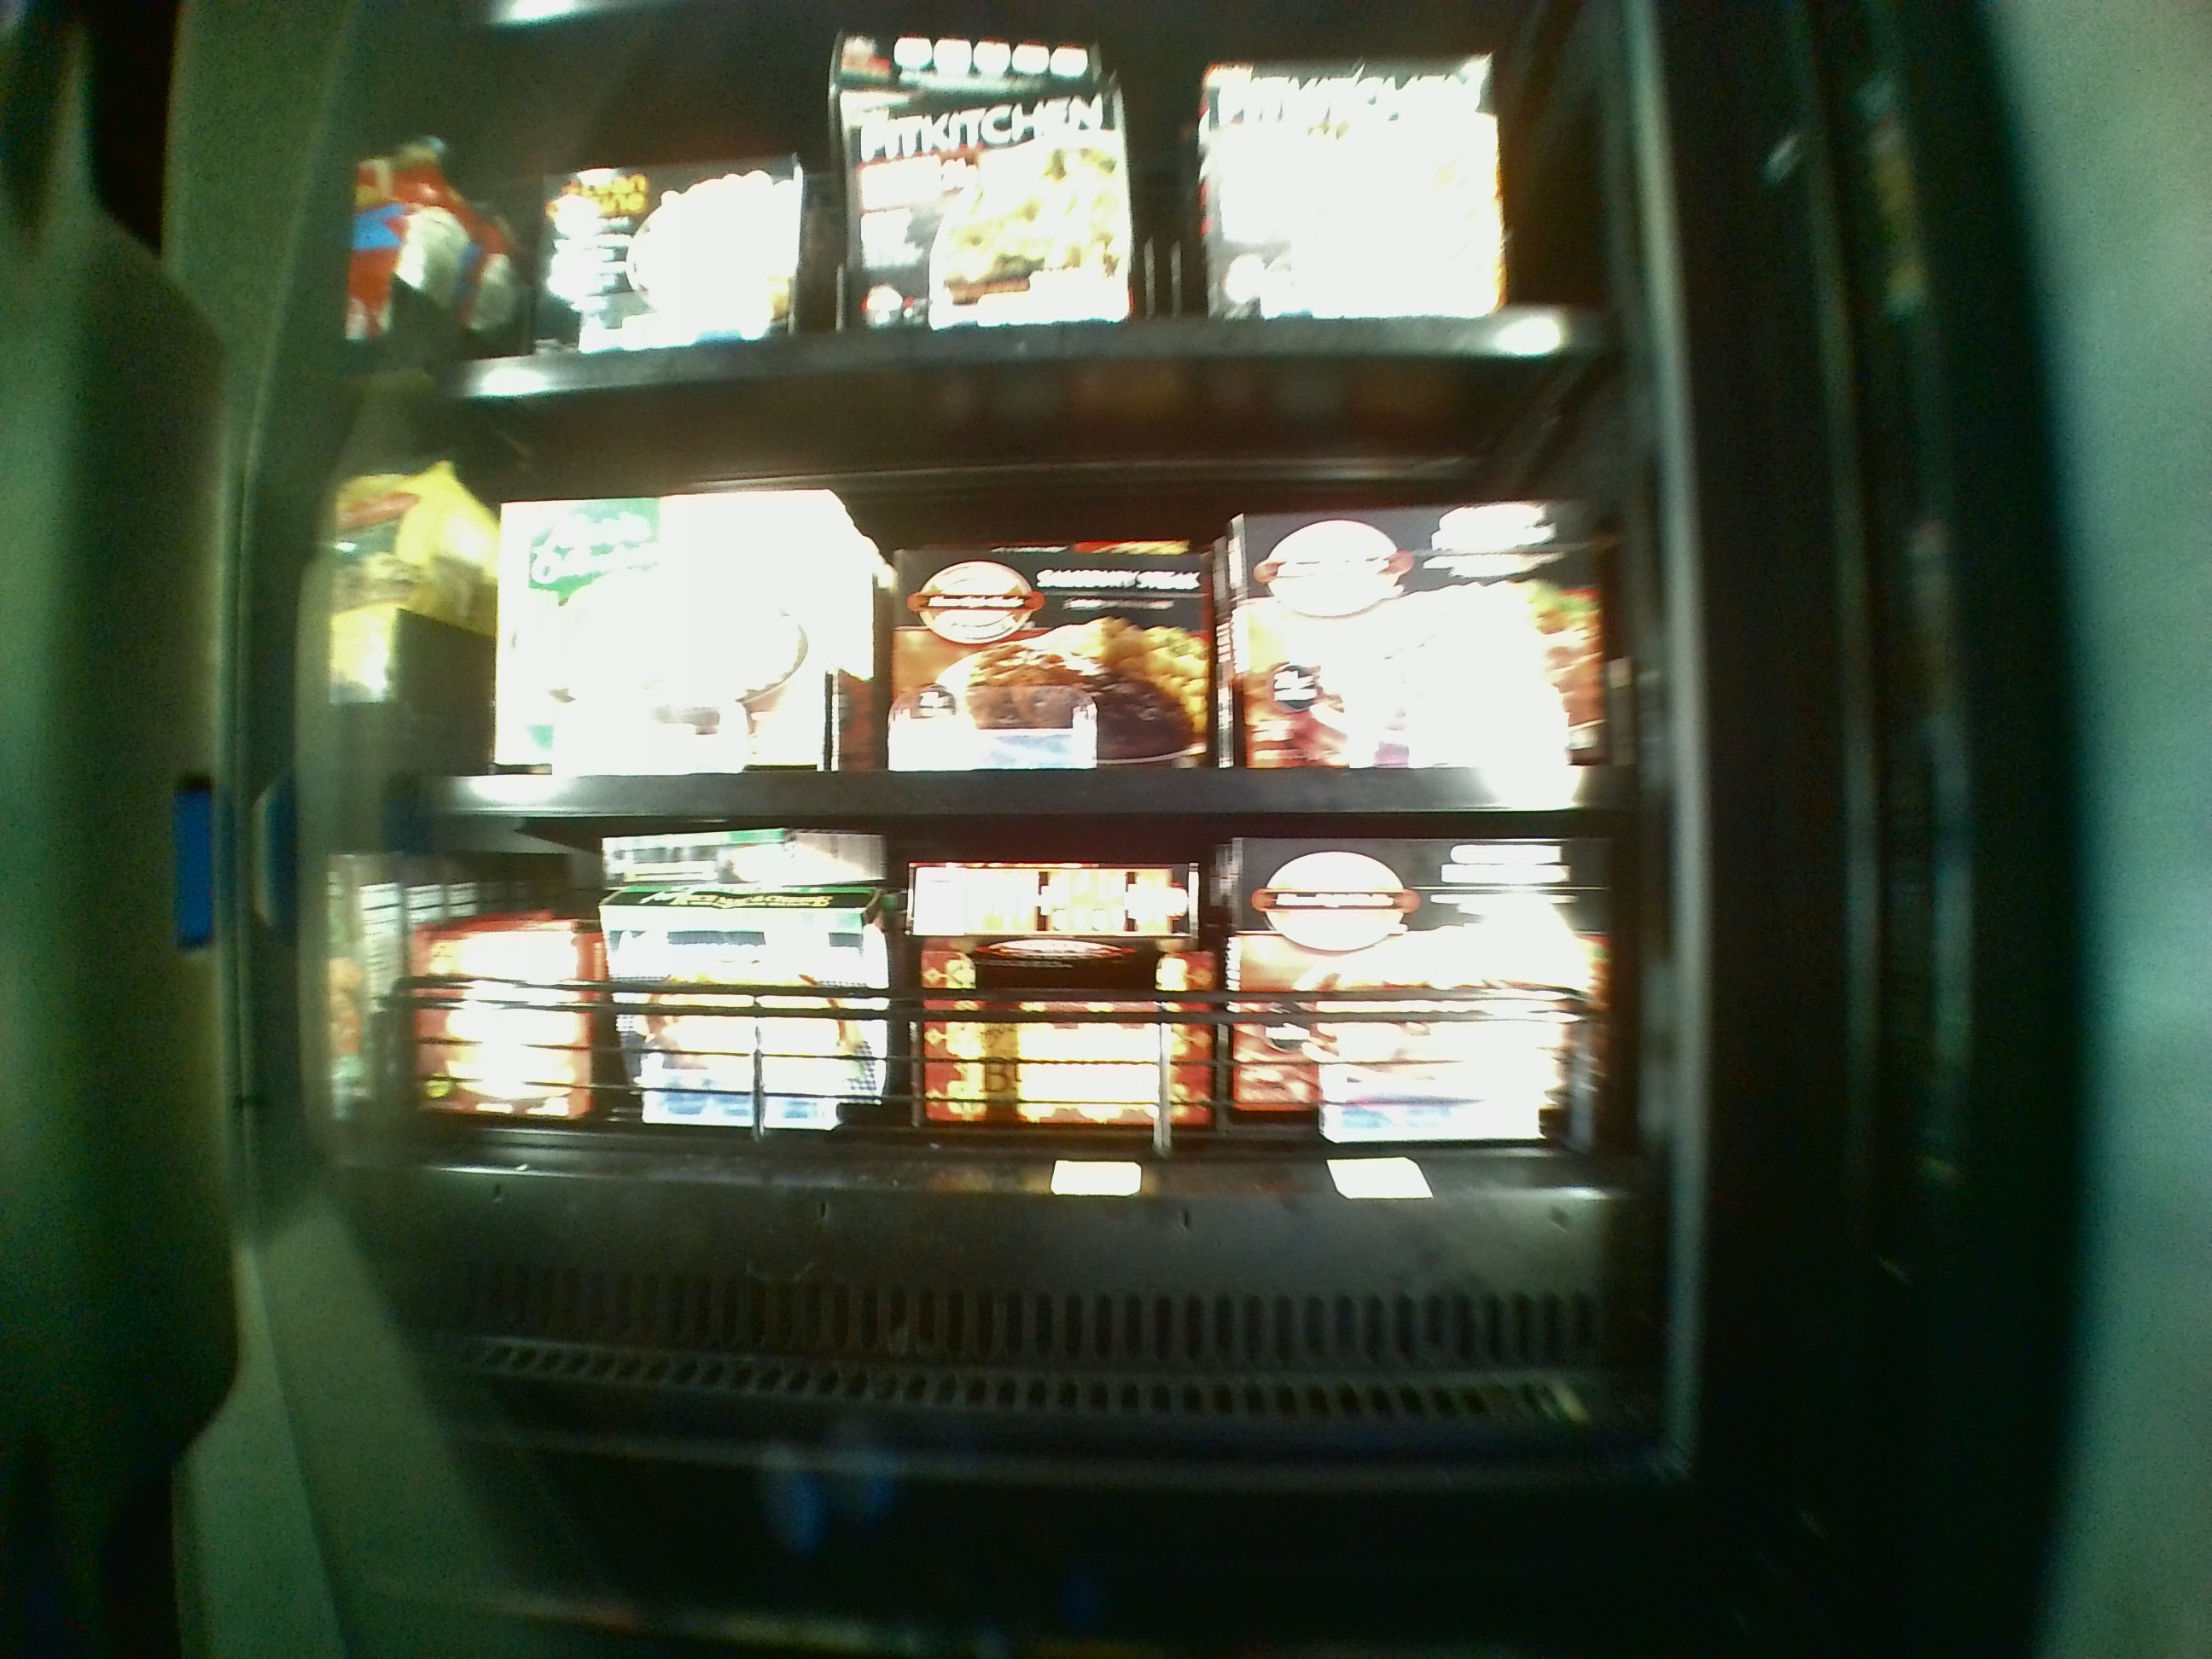shelf: (416, 404, 1629, 814), (411, 829, 1635, 1175)
